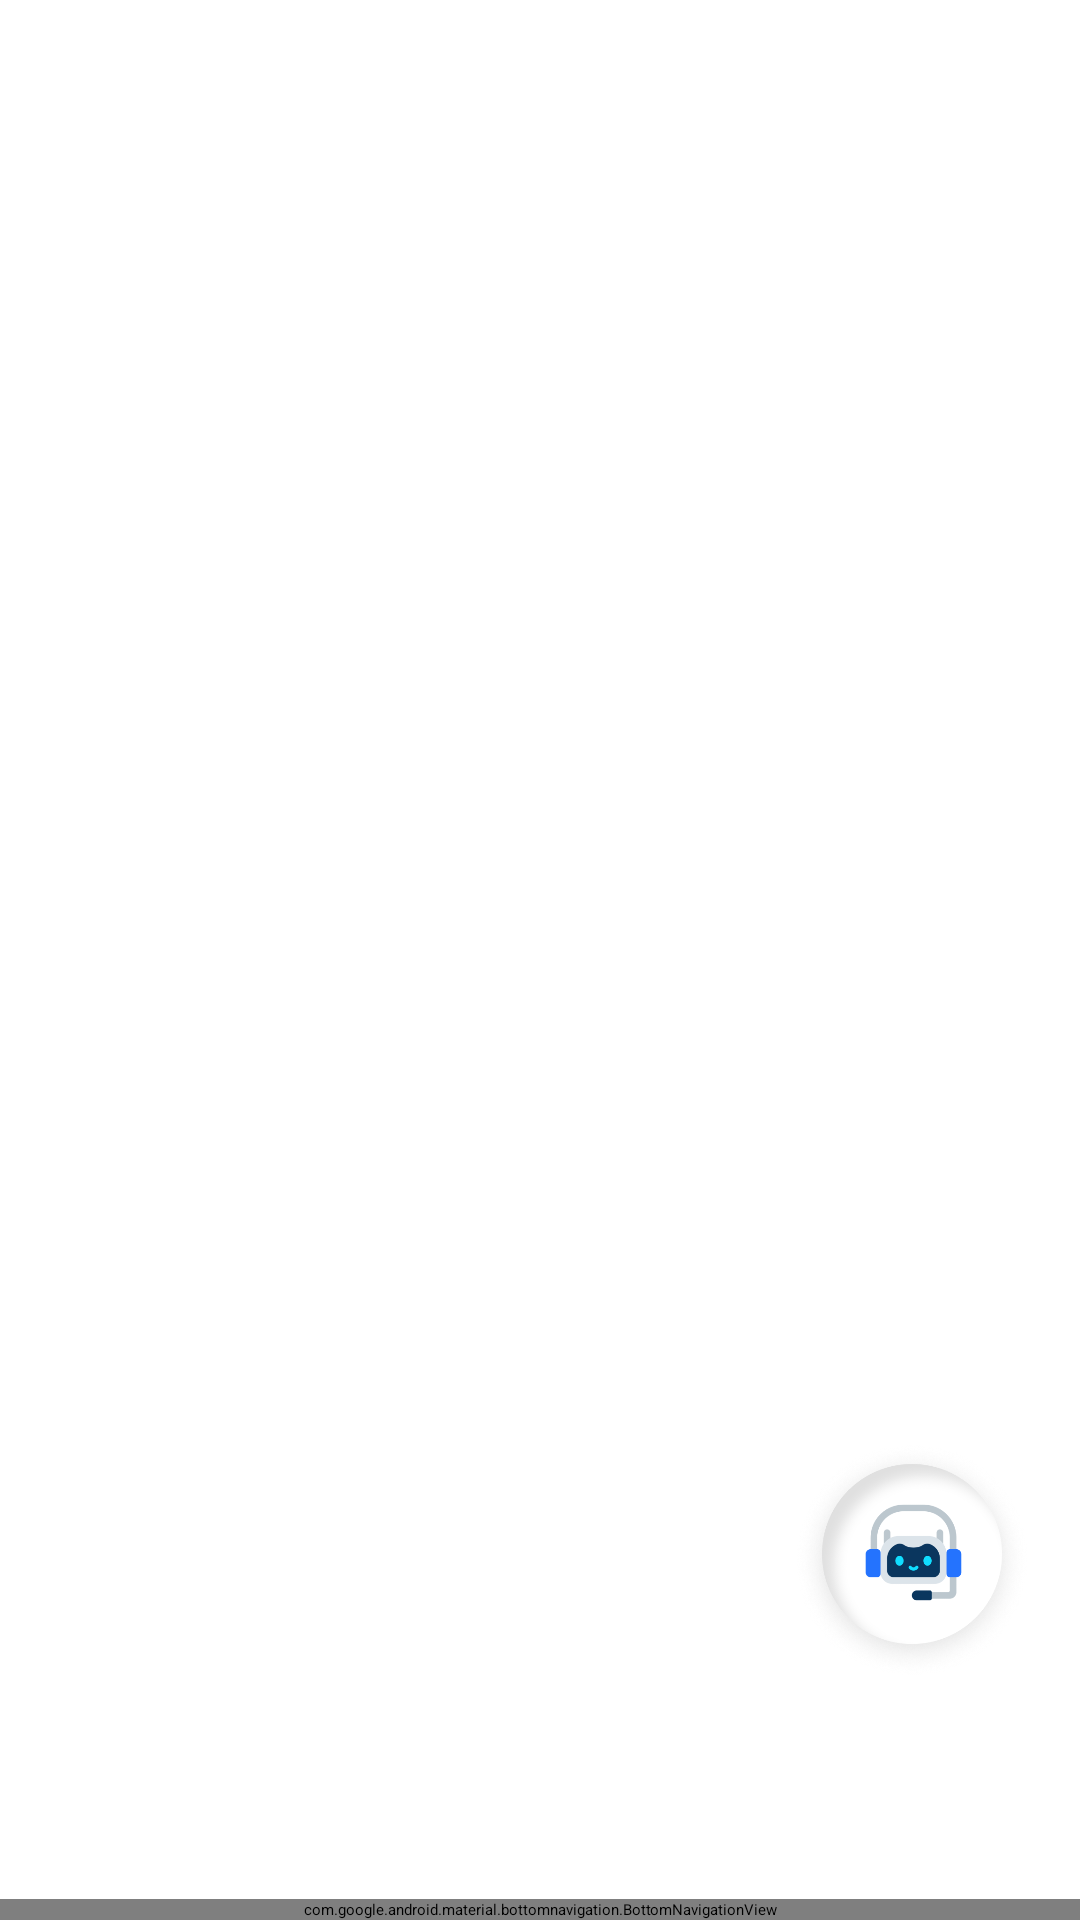

Named icons in this screenshot (1080×1920) and their centers, point (x, y):
chat: point (892, 1532)
